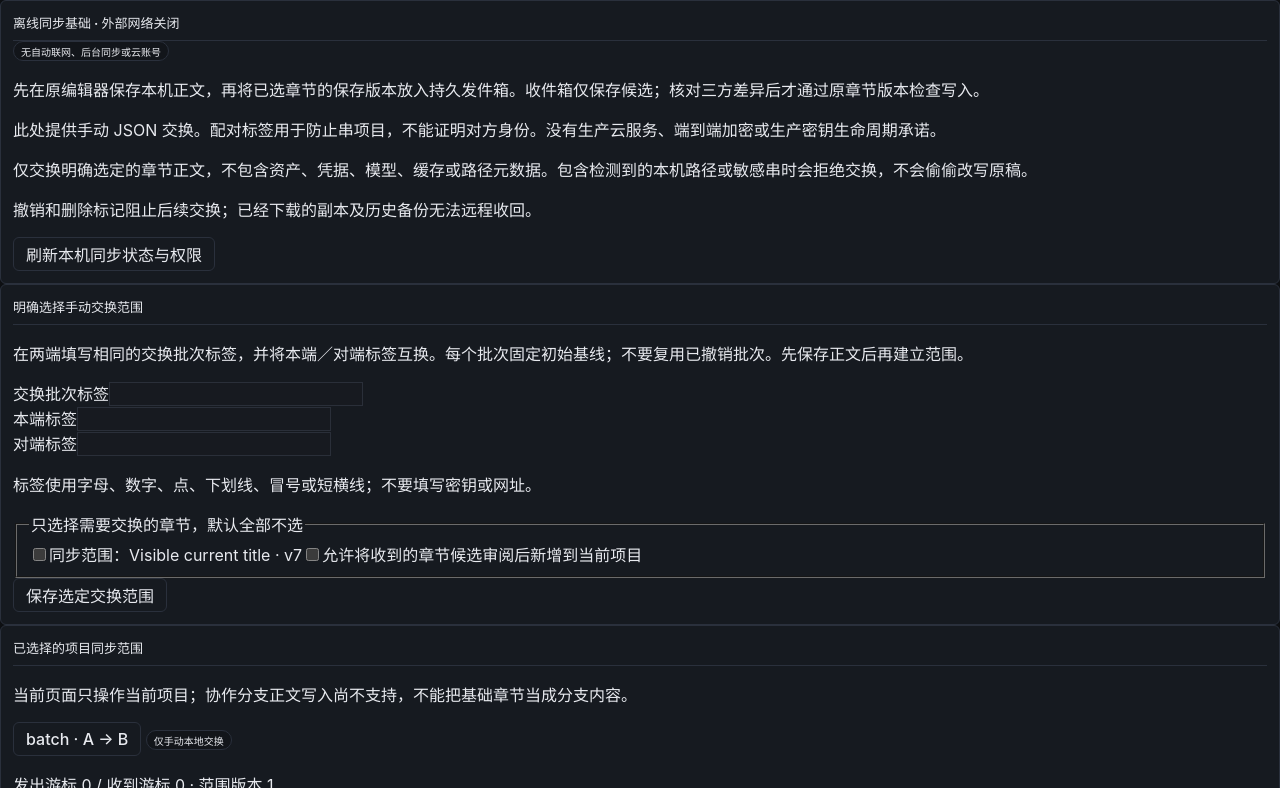
Scenario: retires the prior observation as soon as a new check starts
Click the button "batch · A → B" at (77, 739), box [13,722,141,756]
(page scrolled)
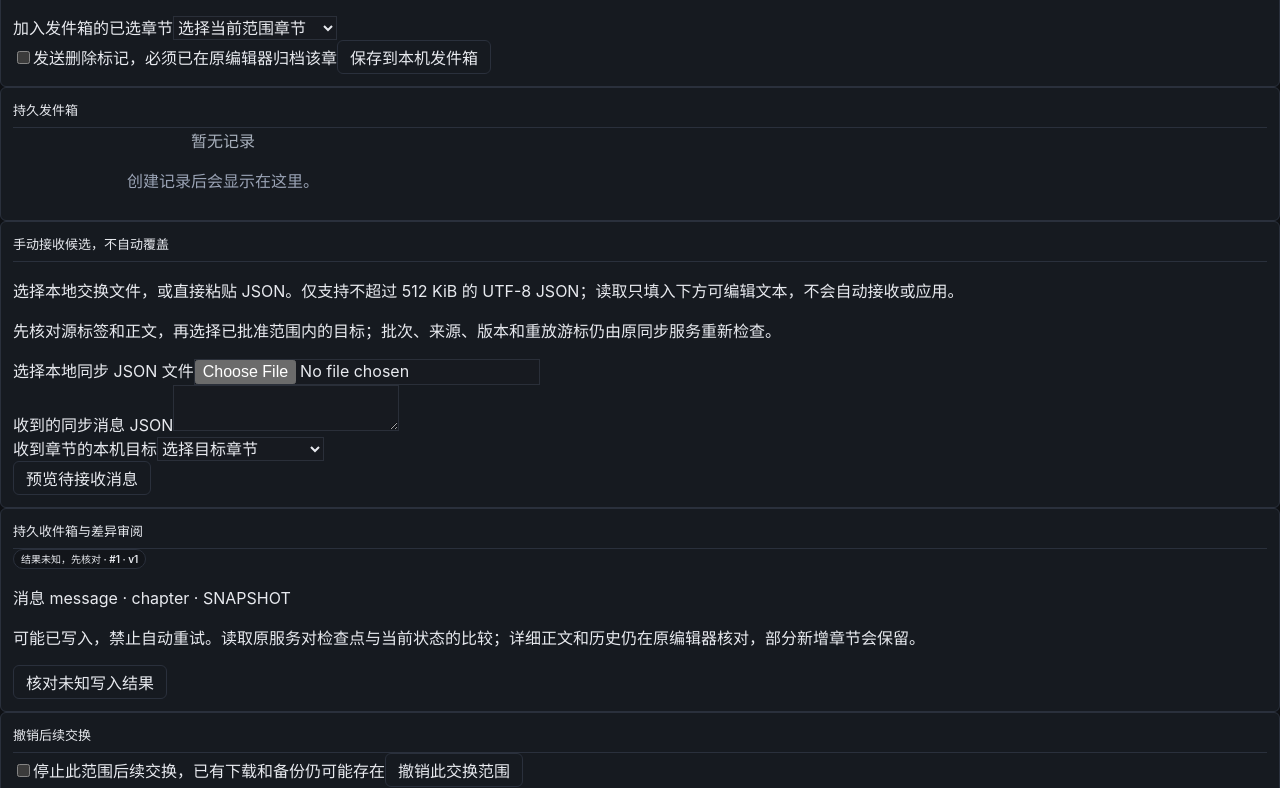
Click the button "核对未知写入结果" at (90, 682), box [13,665,167,699]
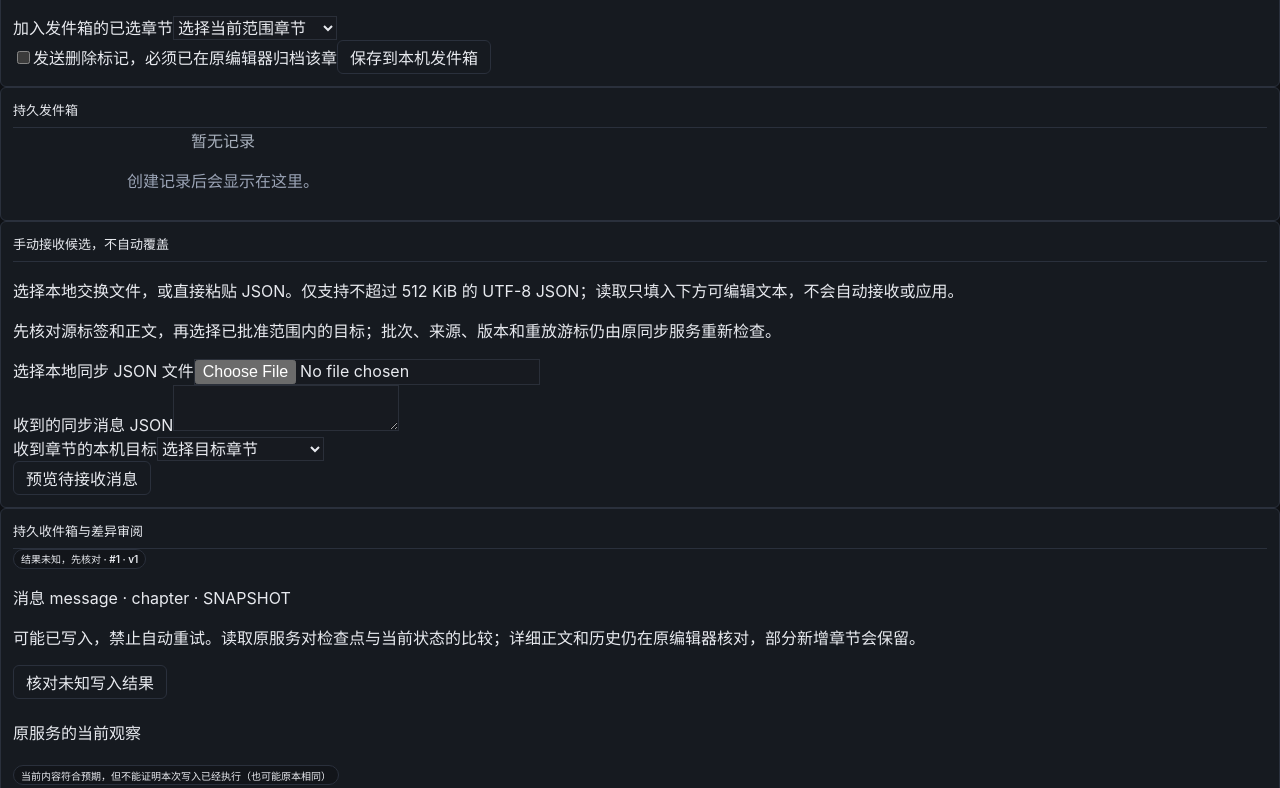
Click the button "核对未知写入结果" at (90, 682), box [13,665,167,699]
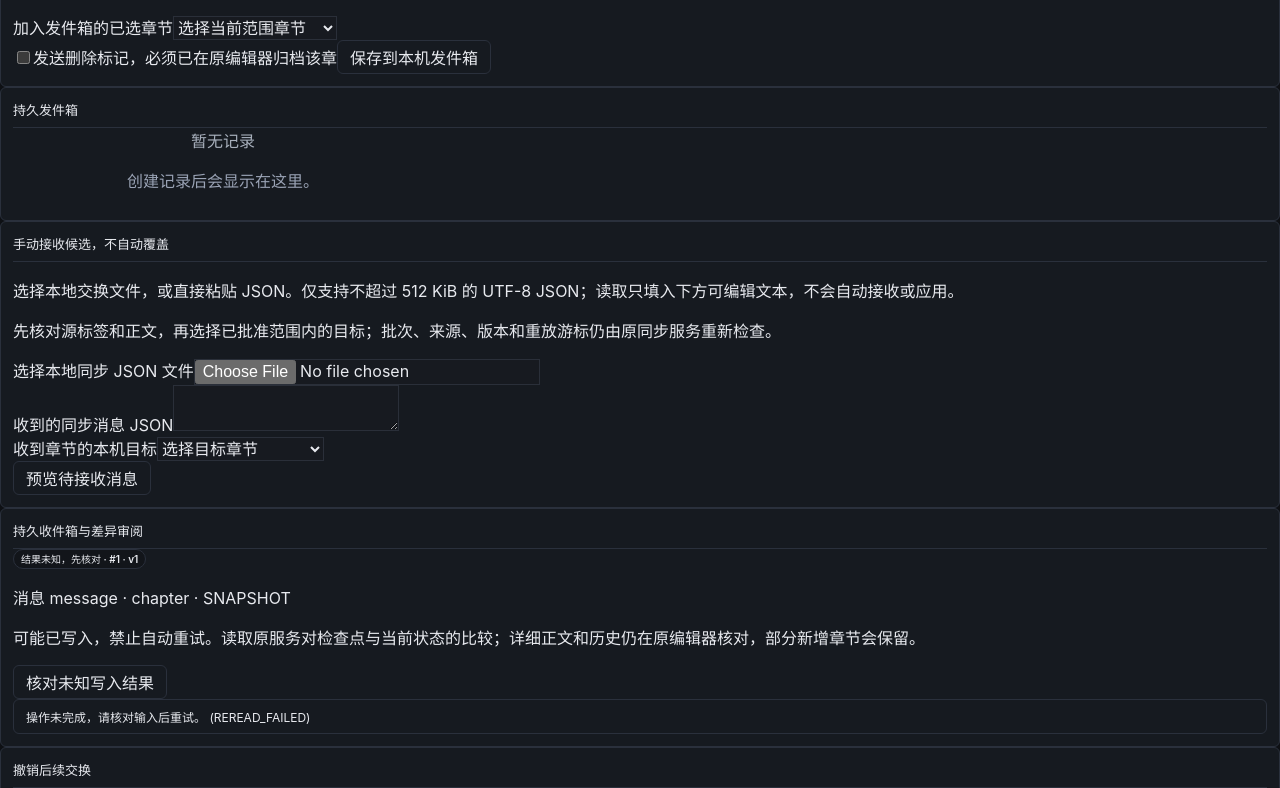
Expected: the text "操作未完成，请核对输入后重试。 (REREAD_FAILED)" is shown, [13,699,1267,734]
